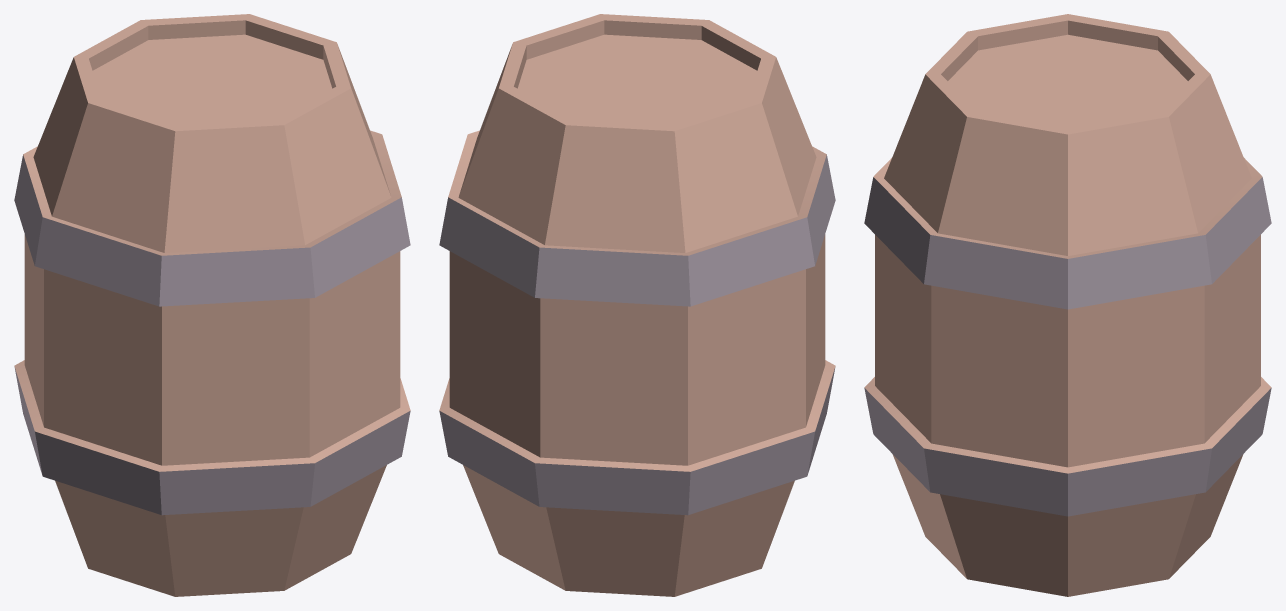
The model's file is Barrel.fbx.
3 renders of one model, left to right at view 1: azimuth 30°, elevation 25°; view 2: azimuth 150°, elevation 25°; view 3: azimuth 270°, elevation 25°, orthographic.
Visible parts, largest first — view 1: pCylinder1; view 2: pCylinder1; view 3: pCylinder1.
Boxes of the visible parts, x1,y1,x2,y2 form: pCylinder1: [14, 14, 410, 596]; pCylinder1: [439, 14, 835, 596]; pCylinder1: [864, 14, 1271, 596].
Bounding box in the file's own units: 2.86 × 3.58 × 2.86.
